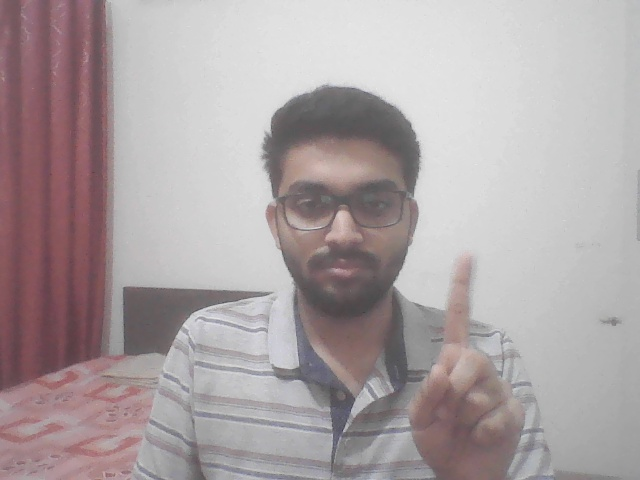where: (394, 251, 538, 473)
